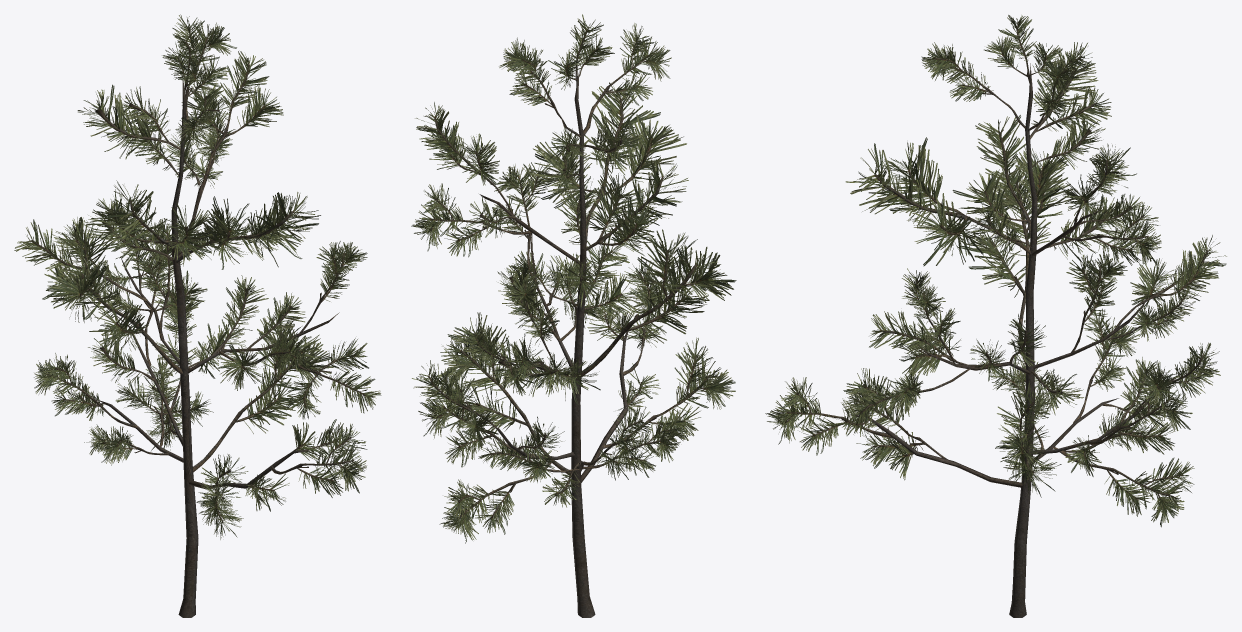
Rendered from detail.fbx.
3 views of the same model, side by side, from view 1: azimuth 30°, elevation 25°; view 2: azimuth 150°, elevation 25°; view 3: azimuth 270°, elevation 25° (orthographic). The views are drawn at different scales.
Visible parts, largest first — view 1: pine_sapling_small_b; view 2: pine_sapling_small_b; view 3: pine_sapling_small_b.
Boxes of the visible parts, x1,y1,x2,y2 form: pine_sapling_small_b: (14, 14, 381, 617); pine_sapling_small_b: (411, 14, 736, 617); pine_sapling_small_b: (765, 15, 1226, 617).
Bounding box in the file's own units: 52.88 × 105 × 73.03.
